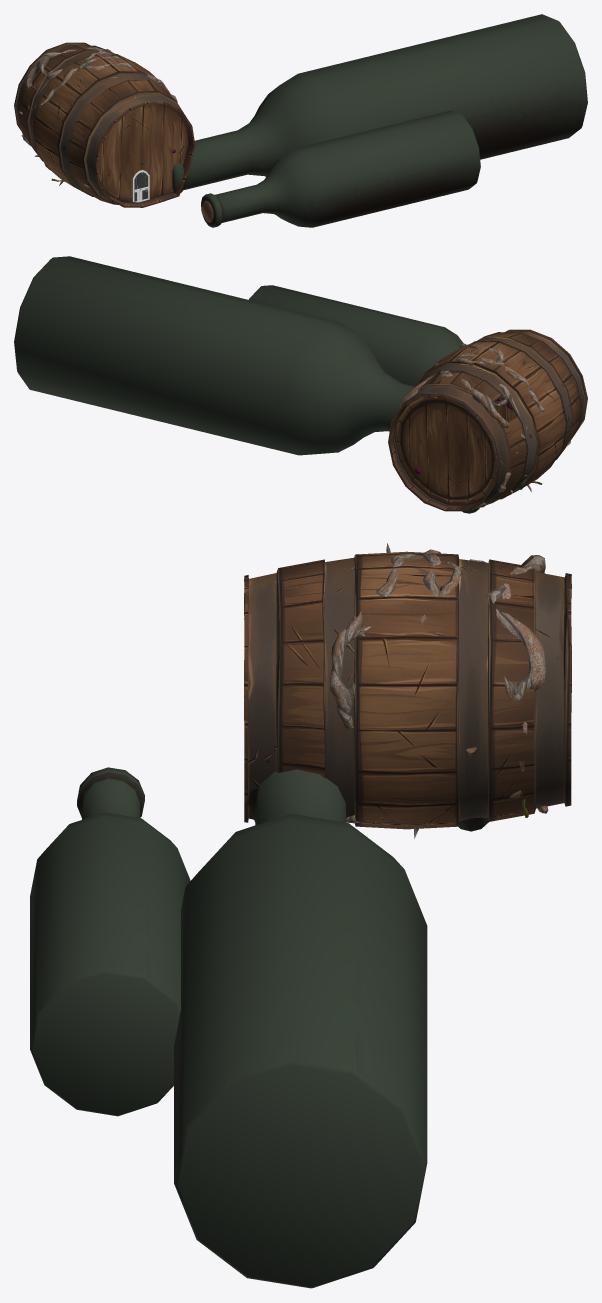
3 views of the same model, one above another, from view 1: azimuth 30°, elevation 25°; view 2: azimuth 150°, elevation 25°; view 3: azimuth 270°, elevation 25° (orthographic). The views are drawn at different scales.
Parts seen in each view (by area): view 1: Whiskey.005, __barrel_low.018, Whiskey.012, Env_Roots_Big_6_SM, Env_Roots_Big_3_SM, Door; view 2: Whiskey.005, __barrel_low.018, Whiskey.012, Env_Roots_Big_3_SM, Env_Roots_Big_6_SM; view 3: Whiskey.005, __barrel_low.018, Whiskey.012, Env_Roots_Big_6_SM, Env_Roots_Big_3_SM.
Part boxes in pixels (left/top/right/bottom): Whiskey.005: left=172, top=14, right=587, bottom=192; __barrel_low.018: left=14, top=42, right=195, bottom=207; Whiskey.012: left=201, top=110, right=480, bottom=227; Env_Roots_Big_6_SM: left=39, top=51, right=177, bottom=106; Env_Roots_Big_3_SM: left=25, top=47, right=111, bottom=112; Door: left=134, top=172, right=148, bottom=201; Whiskey.005: left=14, top=256, right=414, bottom=455; __barrel_low.018: left=388, top=329, right=587, bottom=511; Whiskey.012: left=249, top=285, right=463, bottom=386; Env_Roots_Big_3_SM: left=400, top=370, right=527, bottom=438; Env_Roots_Big_6_SM: left=446, top=343, right=544, bottom=411; Whiskey.005: left=174, top=769, right=427, bottom=1288; __barrel_low.018: left=244, top=551, right=571, bottom=829; Whiskey.012: left=30, top=767, right=190, bottom=1116; Env_Roots_Big_6_SM: left=330, top=549, right=461, bottom=838; Env_Roots_Big_3_SM: left=470, top=555, right=545, bottom=702.
Bounding box in the file's own units: 3707 × 1133 × 1789.
